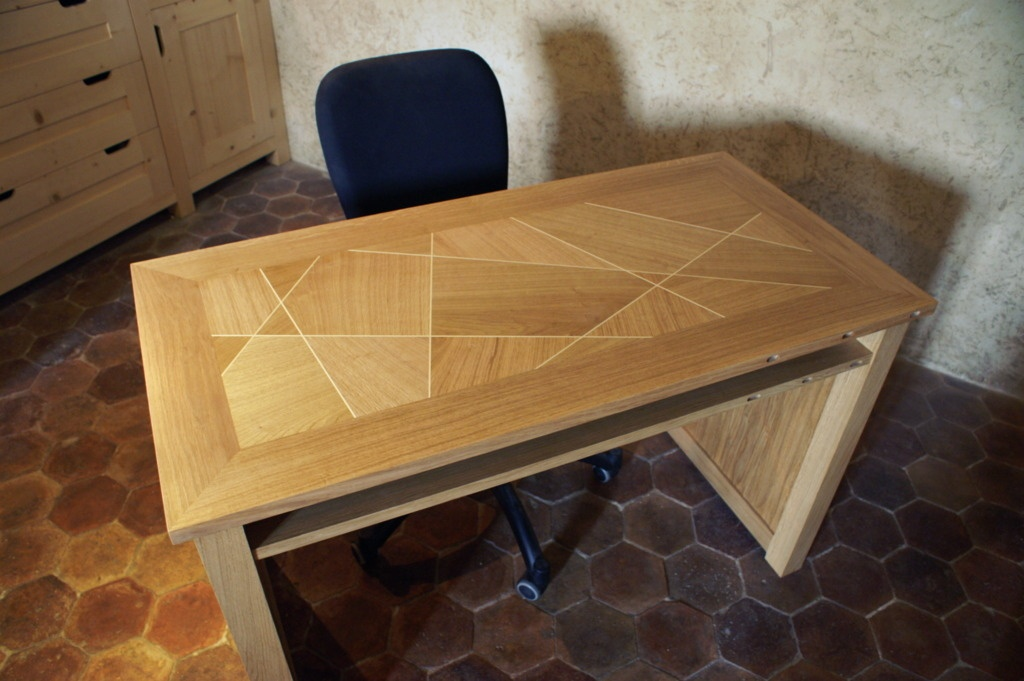Table: (174, 358, 422, 502)
